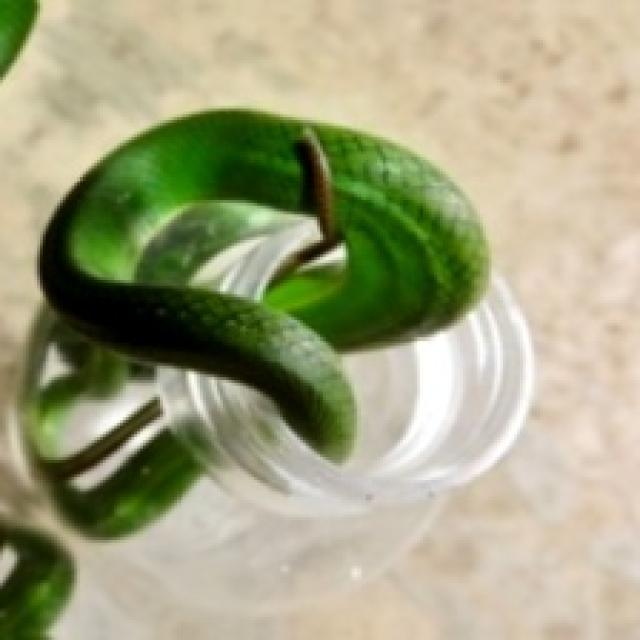red-tailed green ratsnake: (20, 109, 531, 629)
